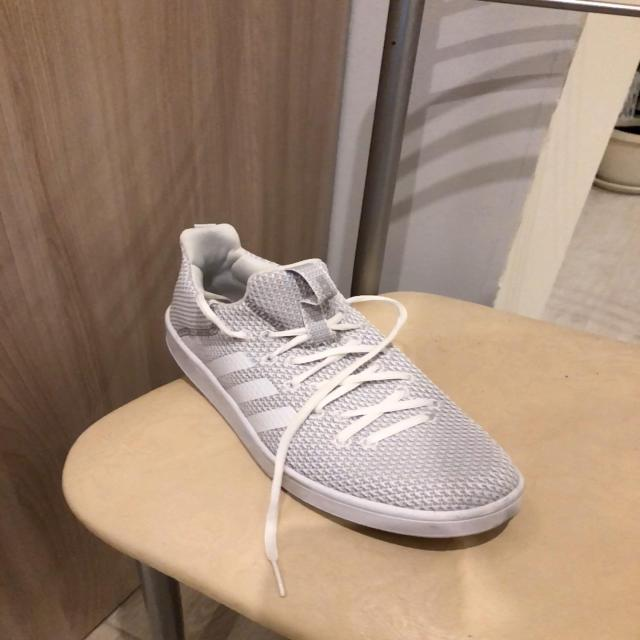shoe: (164, 224, 525, 584)
